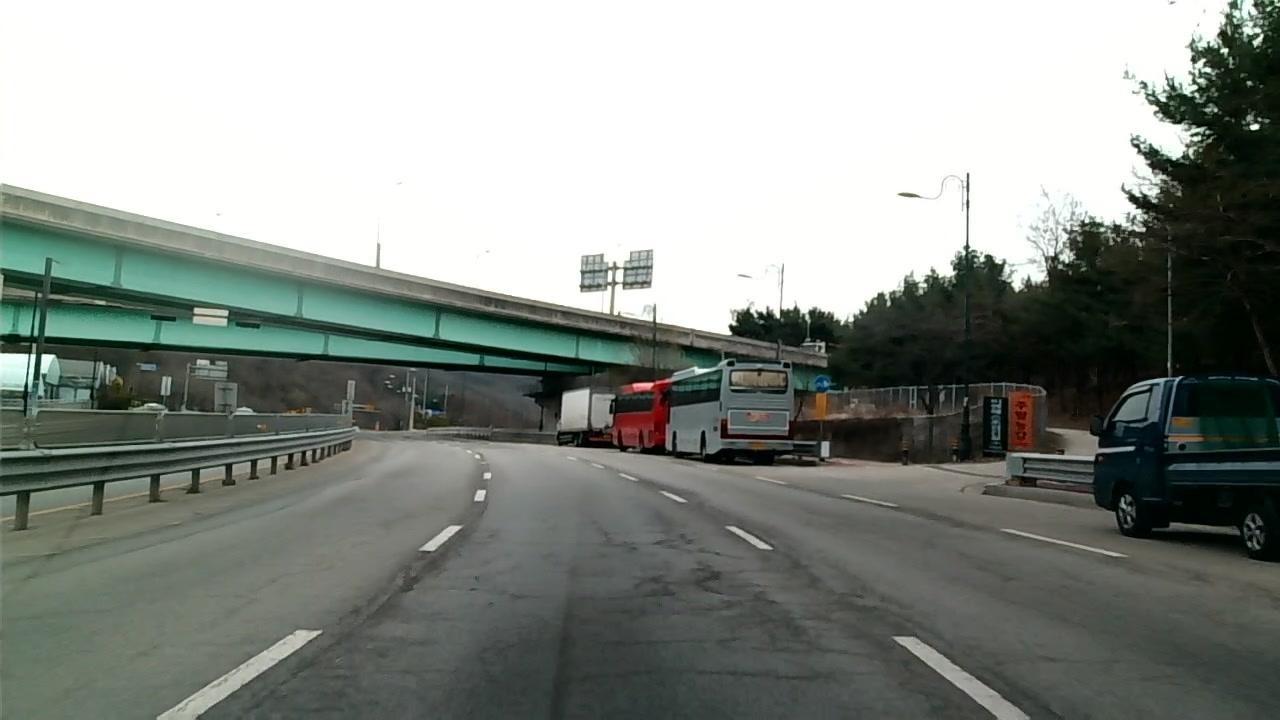erosion: (570, 510, 951, 718)
vcrack: (240, 644, 336, 720), (338, 573, 411, 638), (459, 572, 529, 601), (966, 556, 1020, 583)
